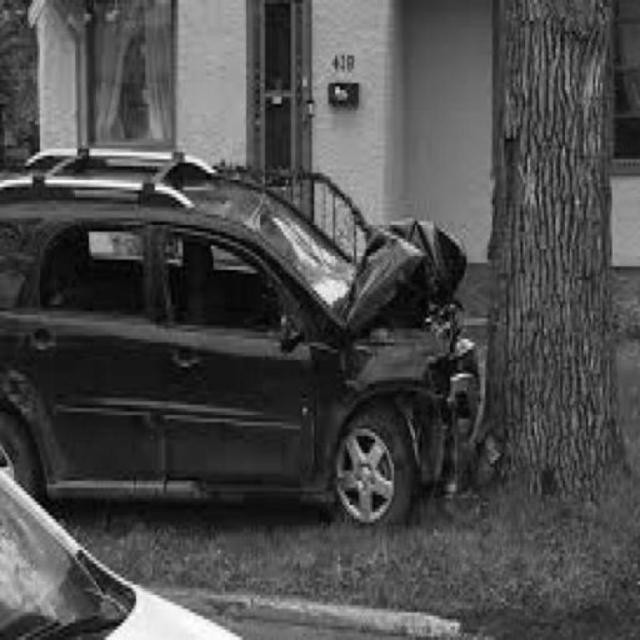accident: (3, 149, 629, 537)
